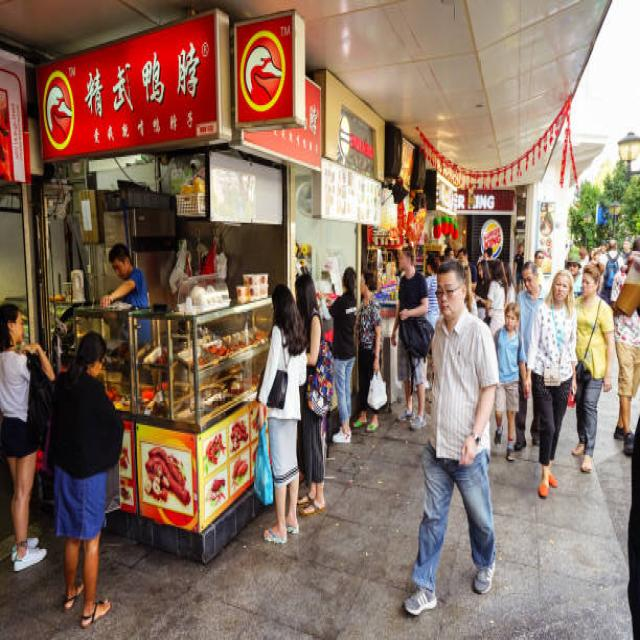Emperan: (28, 0, 312, 574)
